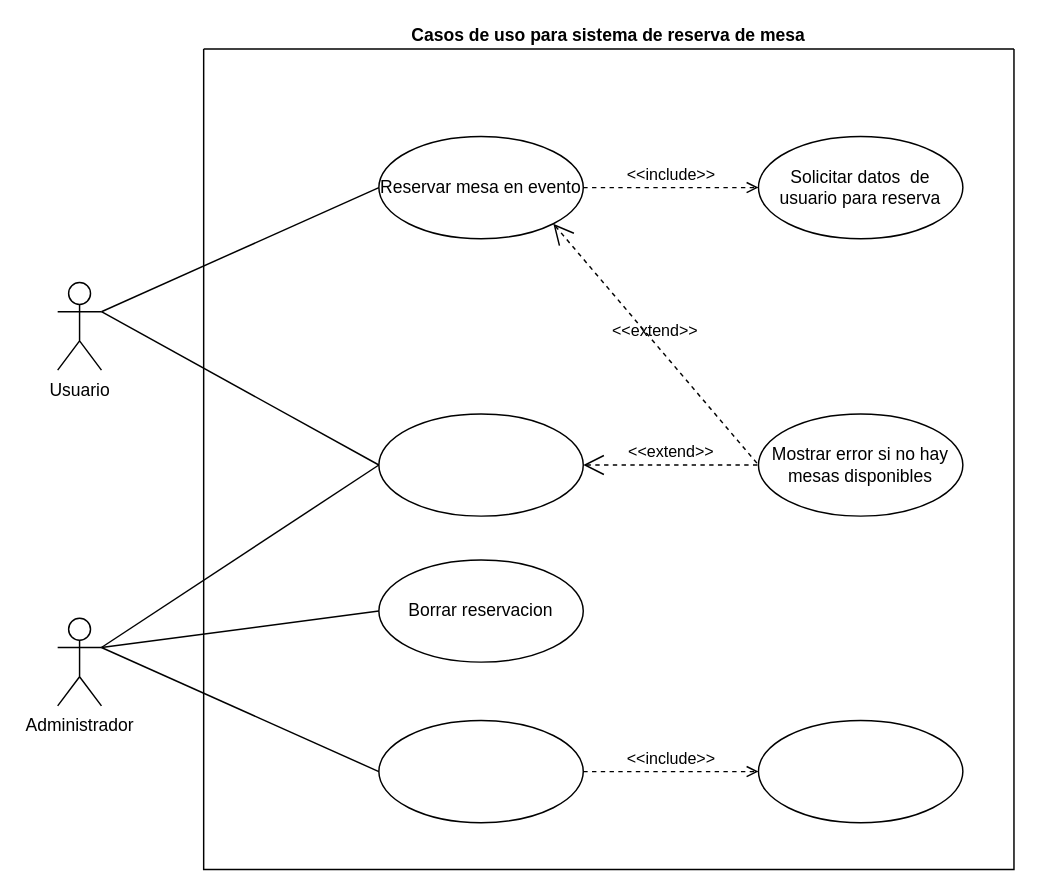
The diagram is 1040 pixels wide and 895 high, and some of its shapes have lost their labels. Each missing label, with the box of its shape:
Crear evento: (377, 719, 583, 823)
Modificar mesa asignada para evento: (377, 412, 583, 516)
Verificar que horario este libre: (757, 719, 963, 823)
